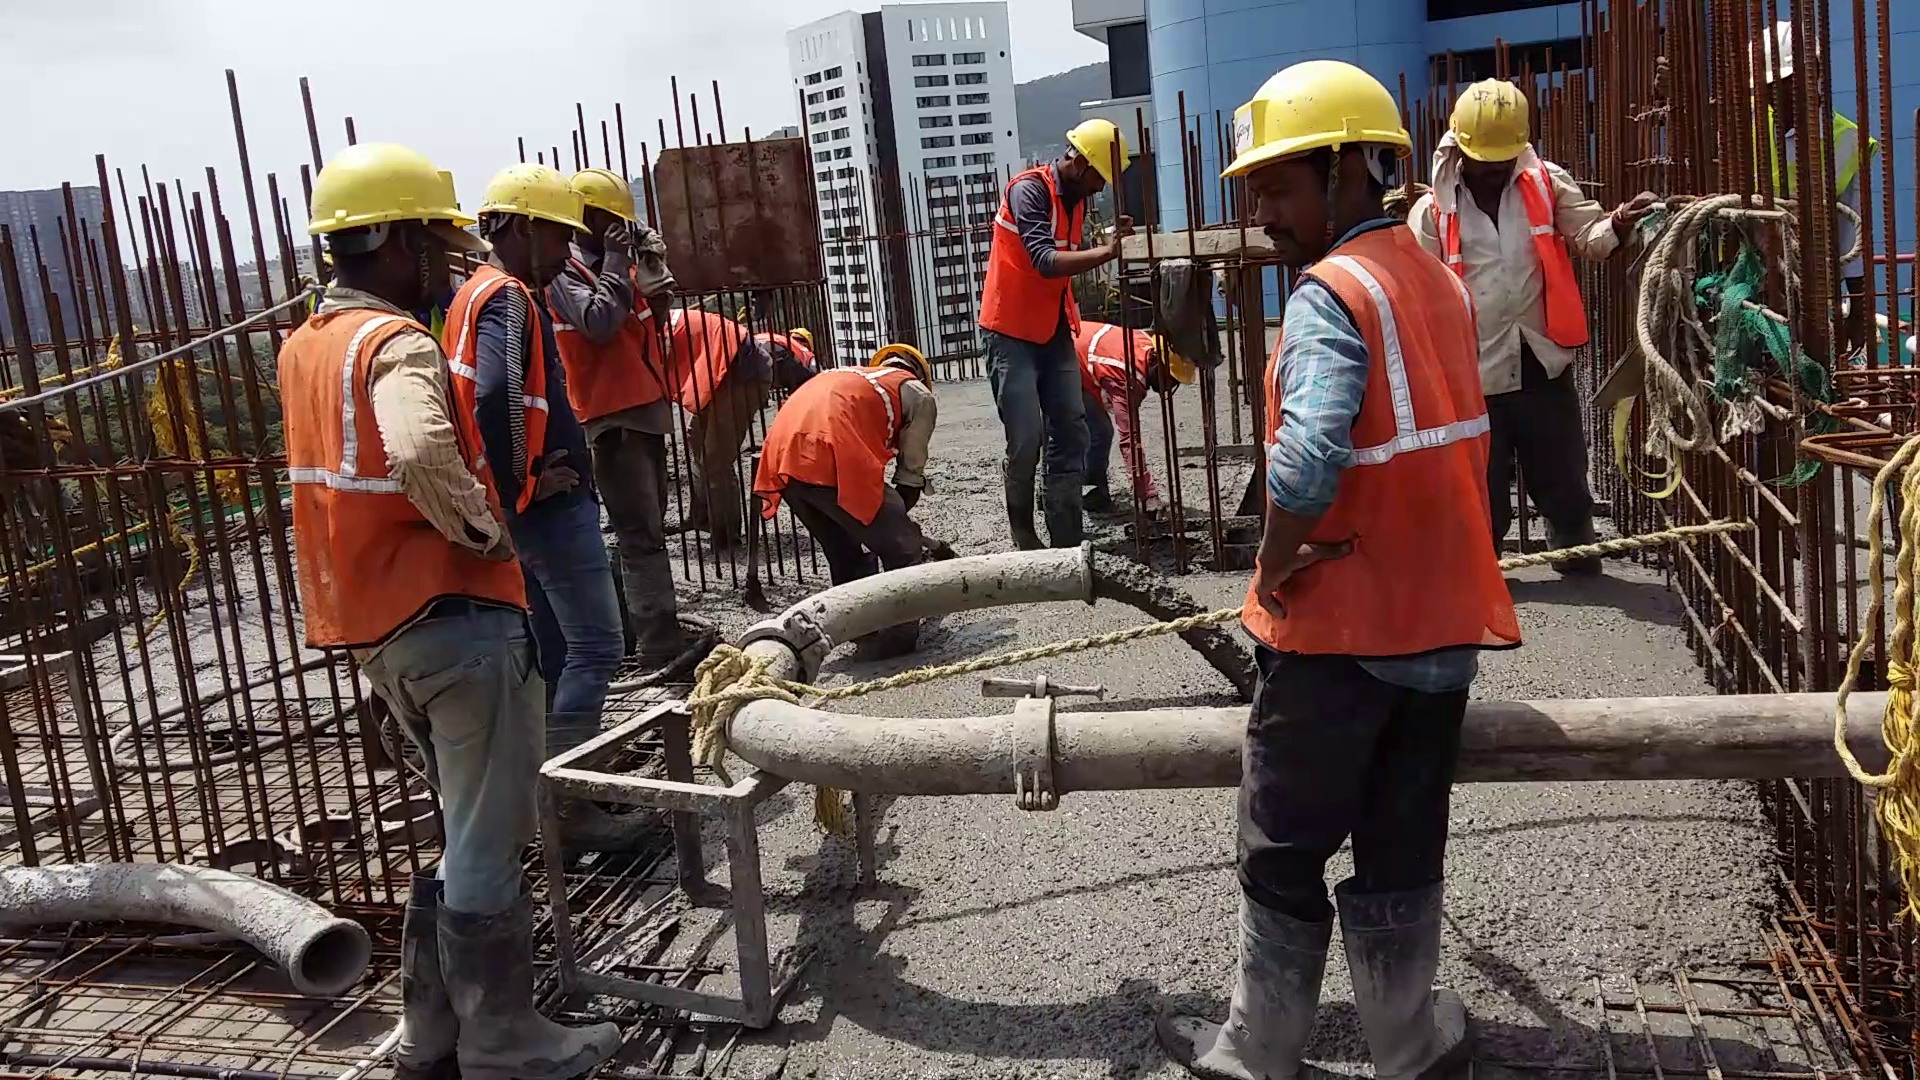SAFE: (1236, 55, 1456, 661), (266, 142, 479, 647), (1425, 76, 1572, 382), (481, 158, 572, 495), (984, 113, 1116, 342), (765, 342, 939, 500), (585, 164, 665, 426)
